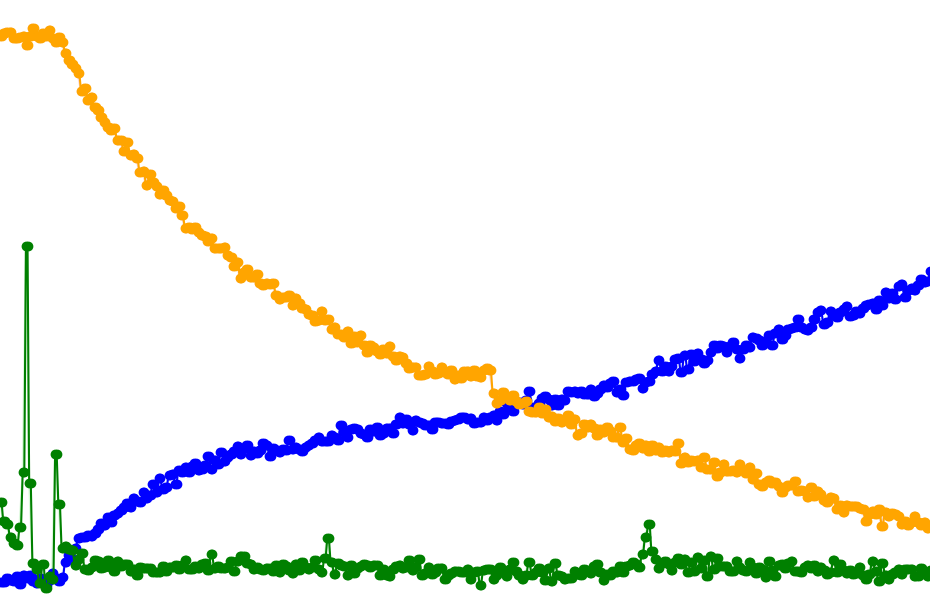Condensation (CO2): (38, 0, 194, 616)
High O2: (505, 0, 622, 616)
Low CO2: (349, 0, 930, 616), (194, 0, 349, 616), (505, 0, 622, 616)
Low O2: (699, 0, 930, 616), (738, 0, 930, 616)
Normal: (505, 0, 930, 616), (38, 0, 349, 616), (699, 0, 930, 616), (0, 0, 194, 616), (505, 0, 699, 616), (38, 0, 194, 616), (349, 0, 505, 616), (194, 0, 349, 616)
O2 Problem: (349, 0, 930, 616)
